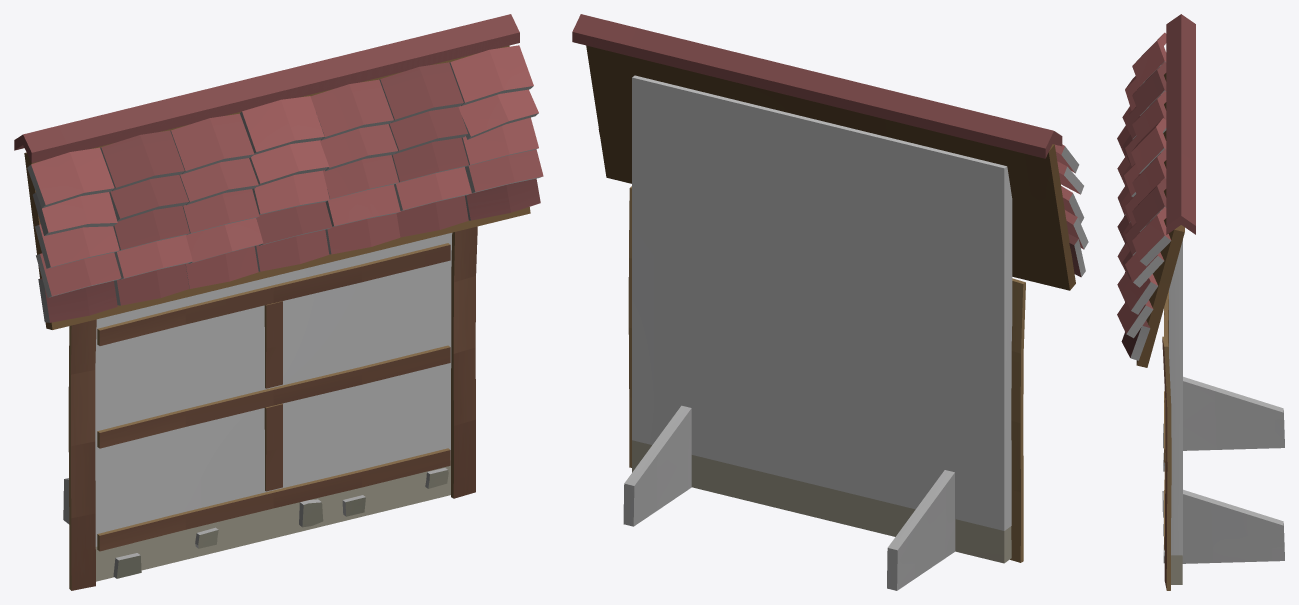
Rendered from paper house plane 3.fbx.
The picture shows the model from 3 angles, left to right: view 1: azimuth 30°, elevation 25°; view 2: azimuth 150°, elevation 25°; view 3: azimuth 270°, elevation 25°; orthographic projection. The views are drawn at different scales.
Parts seen in each view (by area): view 1: Cube.077, Cube.265, Cube.116, Cube.283, Cube.289, Cube.290, Cube.291, Cube.086, Cube.294, Cube.078, Cube.285, Cube.275 (+18 smaller); view 2: Cube.077, Cube.250, Cube.265, Cube.293, Cube.283, Cube.116; view 3: Cube.293, Cube.265, Cube.077, Cube.289, Cube.250, Cube.290, Cube.291, Cube.116, Cube.292, Cube.285, Cube.271, Cube.275 (+7 smaller).
Boxes of the visible parts, <box> form: Cube.077: <box>95,233,452,546</box>; Cube.265: <box>14,14,519,163</box>; Cube.116: <box>68,226,477,590</box>; Cube.283: <box>95,460,450,581</box>; Cube.289: <box>27,45,533,208</box>; Cube.290: <box>100,62,463,191</box>; Cube.291: <box>170,79,393,174</box>; Cube.086: <box>97,345,450,448</box>; Cube.294: <box>97,243,450,345</box>; Cube.078: <box>97,448,450,551</box>; Cube.285: <box>32,89,538,235</box>; Cube.275: <box>35,117,538,268</box>; Cube.077: <box>632,75,1012,530</box>; Cube.250: <box>586,45,1075,290</box>; Cube.265: <box>572,14,1062,158</box>; Cube.293: <box>623,405,955,590</box>; Cube.283: <box>632,440,1011,563</box>; Cube.116: <box>628,186,1025,562</box>; Cube.293: <box>1182,376,1284,563</box>; Cube.265: <box>1166,14,1195,234</box>; Cube.077: <box>1169,240,1182,555</box>; Cube.289: <box>1132,32,1171,266</box>; Cube.250: <box>1136,73,1184,367</box>; Cube.290: <box>1132,61,1166,231</box>; Cube.291: <box>1132,91,1166,202</box>; Cube.116: <box>1162,336,1171,590</box>; Cube.292: <box>1131,118,1166,173</box>; Cube.285: <box>1125,76,1164,287</box>; Cube.271: <box>1117,125,1153,338</box>; Cube.275: <box>1122,106,1157,314</box>.
Bounding box in the file's own units: 904 × 810 × 313.
